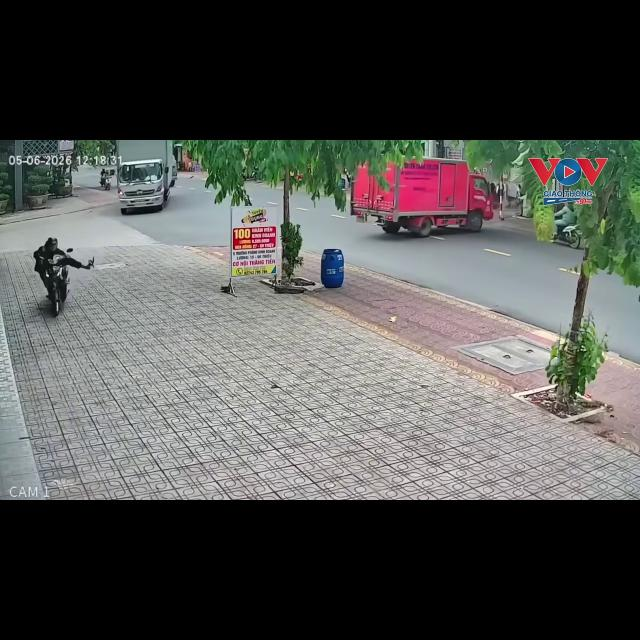motorcycle: (45, 254, 68, 316), (552, 224, 581, 248), (243, 166, 258, 180), (100, 169, 110, 189), (105, 176, 110, 190)
truck: (351, 158, 493, 236), (117, 140, 174, 214)
